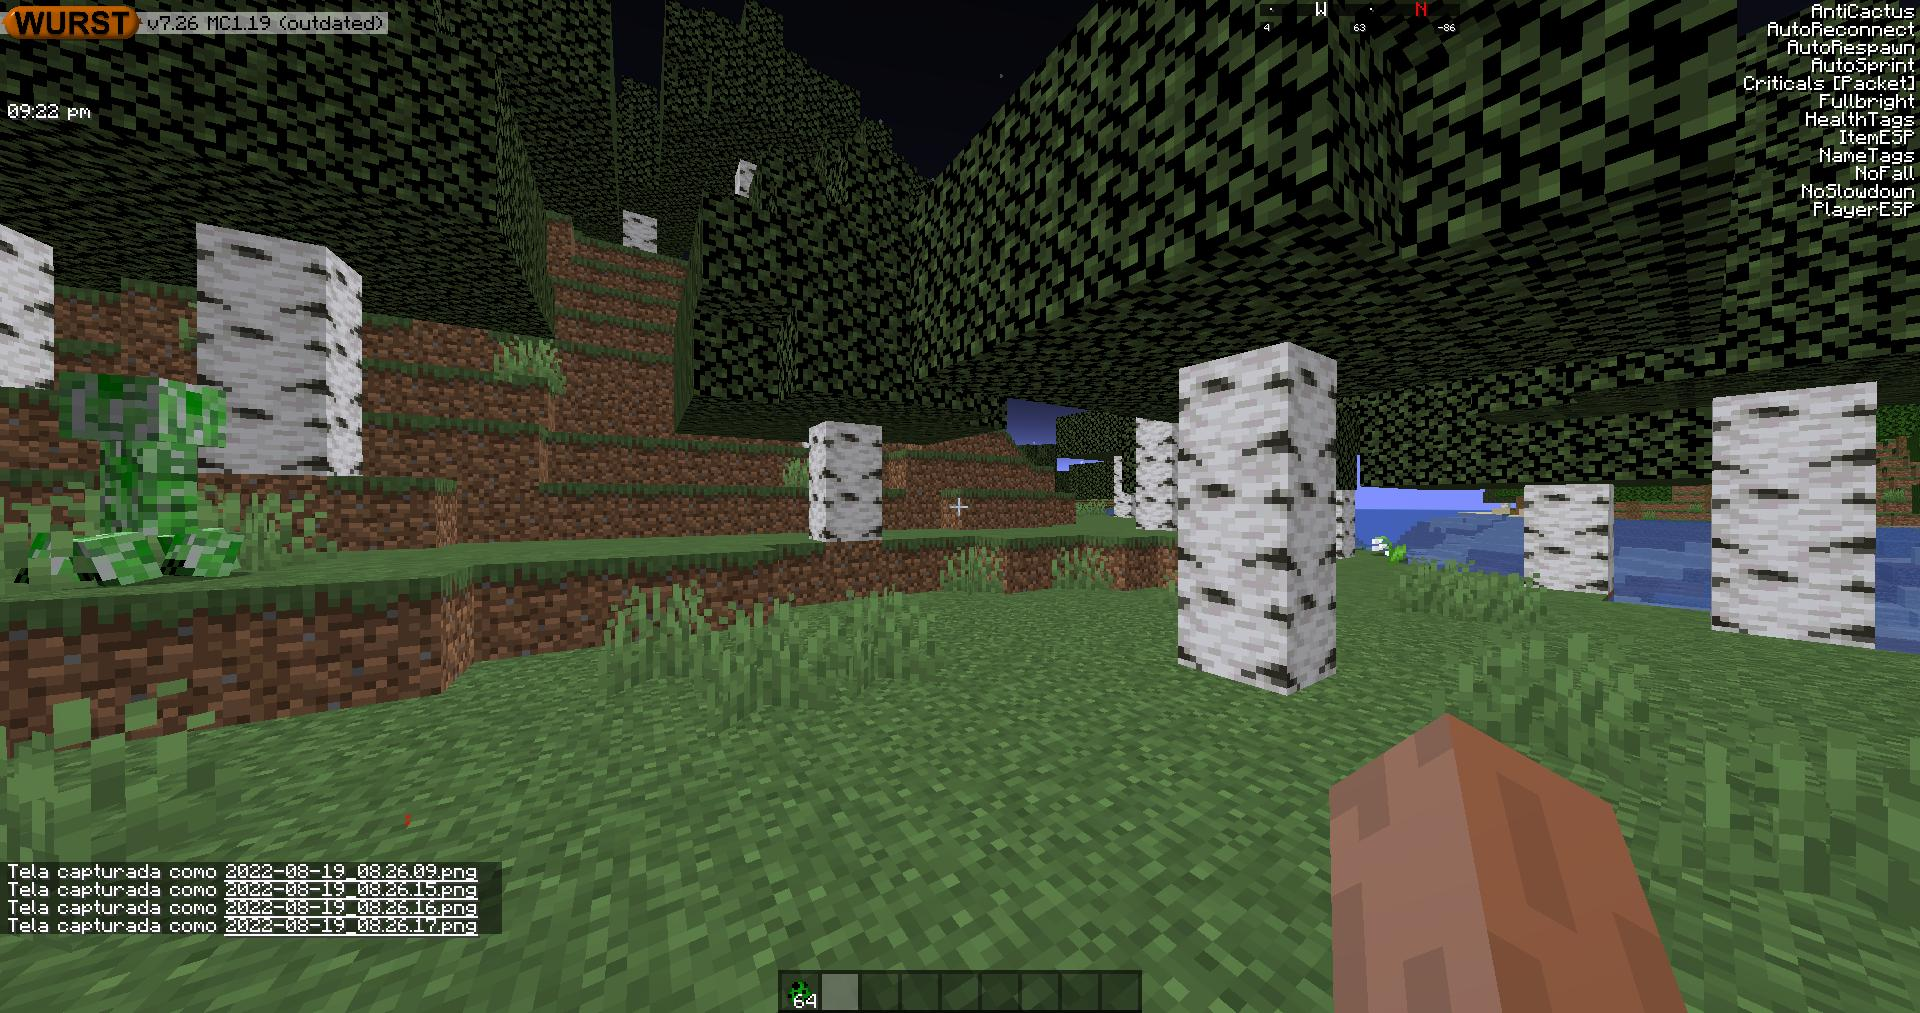creeper: (44, 364, 246, 593)
